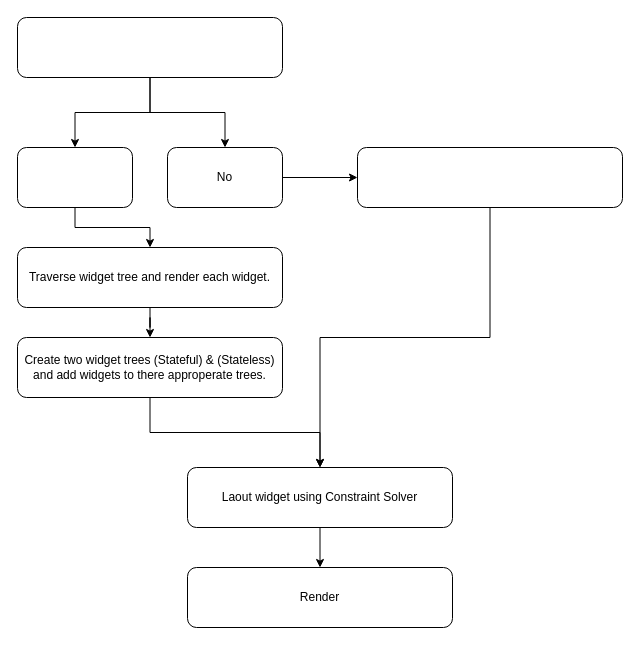
Some shapes in this 640 by 645 pixel diagram are drawn without their labels. The shapes that lost their labels are listed below. From the top down, each one's box as (x1, y1, x2, y2) in pixels, then its label:
(16, 16, 282, 78): Application Exacuted
(16, 146, 132, 208): Yes
(356, 146, 622, 208): Traverse (Stateful) widget tree and re-render widgets with changes.
